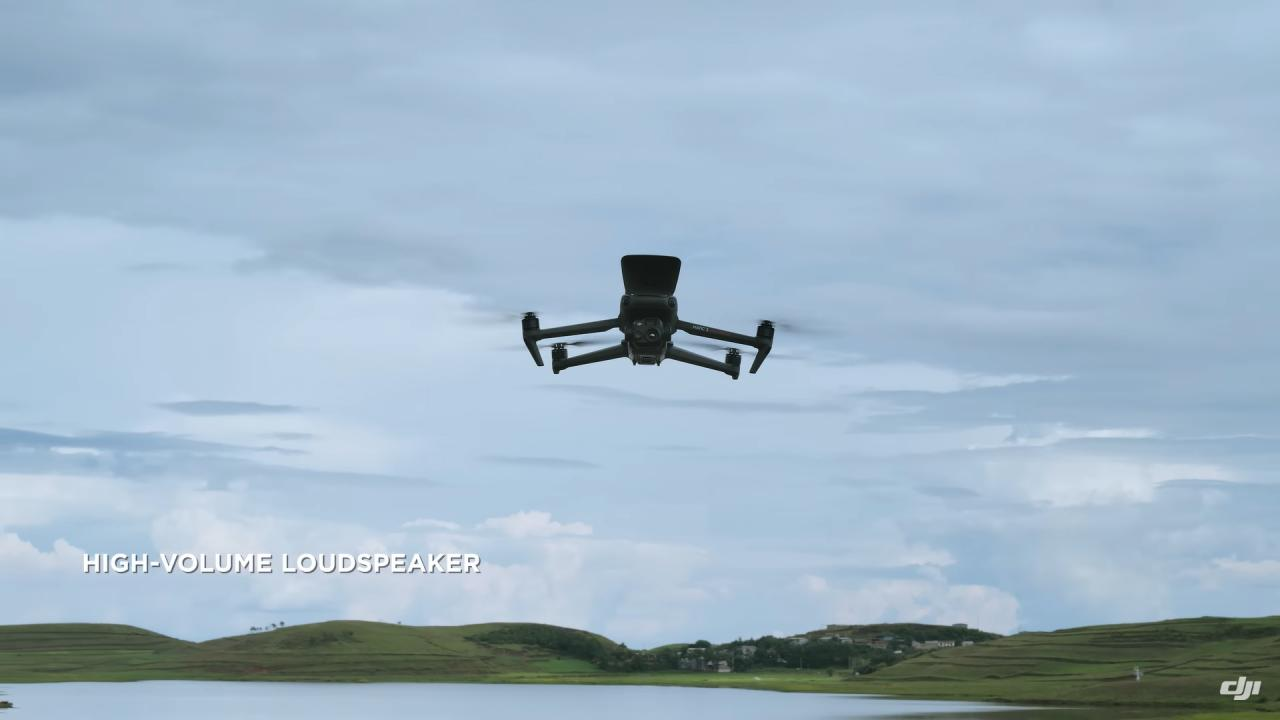Drone: (446, 238, 850, 403)
